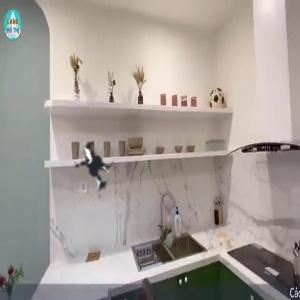drone: (8, 105, 154, 251)
